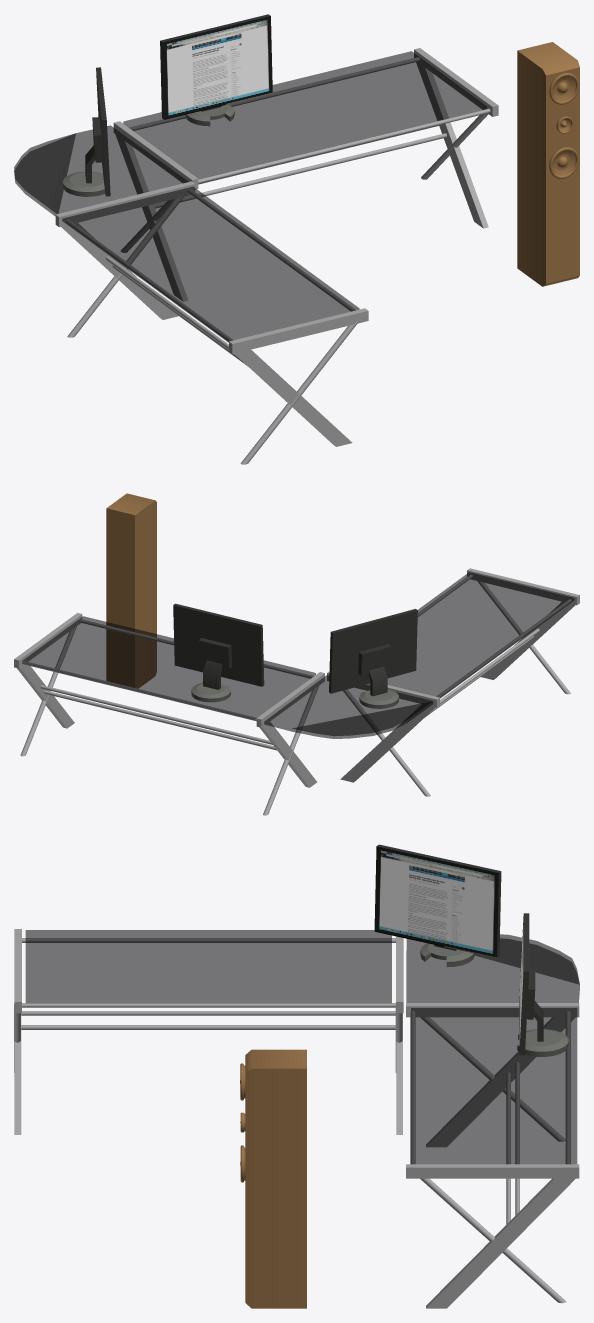
File: deskTest.fbx
The picture shows the model from 3 angles, top to bottom: view 1: azimuth 30°, elevation 25°; view 2: azimuth 150°, elevation 25°; view 3: azimuth 270°, elevation 25°; orthographic projection. The views are drawn at different scales.
Parts seen in each view (by area): view 1: polySurface12, pCube1, pCube10, polySurface7, pCylinder2, pasted__pCylinder2 (×2), polySurface11, pasted__pCube2, pCube2, pasted__pasted__pCylinder2, pasted__pCube3, pCube3 (+2 smaller); view 2: polySurface12, pCube1, pCube10, polySurface7, polySurface11, pCylinder2, pasted__pCylinder2 (×3), pasted__pasted__pCylinder2, pCube2, pasted__pCube2, pCube3, pasted__pCube3 (+2 smaller); view 3: polySurface12, pCube1, pCube10, polySurface11, pCylinder2, pasted__pCube2, polySurface7, pasted__pCube3, pasted__pCylinder2 (×3), pCube2, pCube3, pasted__pCylinder1 (+2 smaller).
Boxes of the visible parts, <box> form: polySurface12: <box>55,181,368,464</box>; pCube1: <box>123,51,486,179</box>; pCube10: <box>517,42,579,286</box>; polySurface7: <box>160,14,272,126</box>; pCylinder2: <box>14,125,188,216</box>; pasted__pCylinder2 (×2): <box>130,57,490,183</box>; polySurface11: <box>63,67,110,196</box>; pasted__pCube2: <box>416,62,488,228</box>; pCube2: <box>115,134,187,301</box>; pasted__pasted__pCylinder2: <box>154,133,446,208</box>; pasted__pCube3: <box>414,48,498,116</box>; pCube3: <box>113,121,198,189</box>; polySurface12: <box>327,568,579,796</box>; pCube1: <box>22,616,315,719</box>; pCube10: <box>106,493,156,688</box>; polySurface7: <box>173,603,264,702</box>; polySurface11: <box>329,609,417,708</box>; pCylinder2: <box>264,675,433,738</box>; pasted__pCylinder2 (×3): <box>22,619,313,744</box>; pasted__pasted__pCylinder2: <box>44,690,276,750</box>; pCube2: <box>259,722,317,787</box>; pasted__pCube2: <box>17,664,74,728</box>; pCube3: <box>256,672,324,727</box>; pasted__pCube3: <box>14,613,82,668</box>; polySurface12: <box>14,929,403,1134</box>; pCube1: <box>411,1008,577,1164</box>; pCube10: <box>245,1049,306,1308</box>; polySurface11: <box>374,844,501,967</box>; pCylinder2: <box>406,934,579,1002</box>; pasted__pCube2: <box>426,1178,575,1308</box>; polySurface7: <box>517,913,568,1056</box>; pasted__pCube3: <box>406,1164,579,1178</box>; pasted__pCylinder2 (×3): <box>410,1011,570,1215</box>; pCube2: <box>426,1017,574,1146</box>; pCube3: <box>406,1003,579,1017</box>; pasted__pCylinder1: <box>420,1178,566,1303</box>.
Bounding box in the file's own units: 23.04 × 10.81 × 22.63.
Materials: 8 (1 with a texture image).
